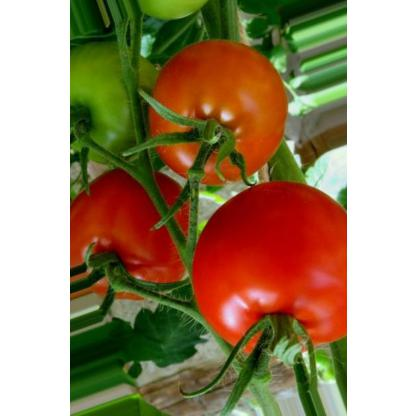tomato: (185, 175, 345, 367), (71, 154, 211, 330), (144, 34, 288, 195), (69, 26, 173, 182)
